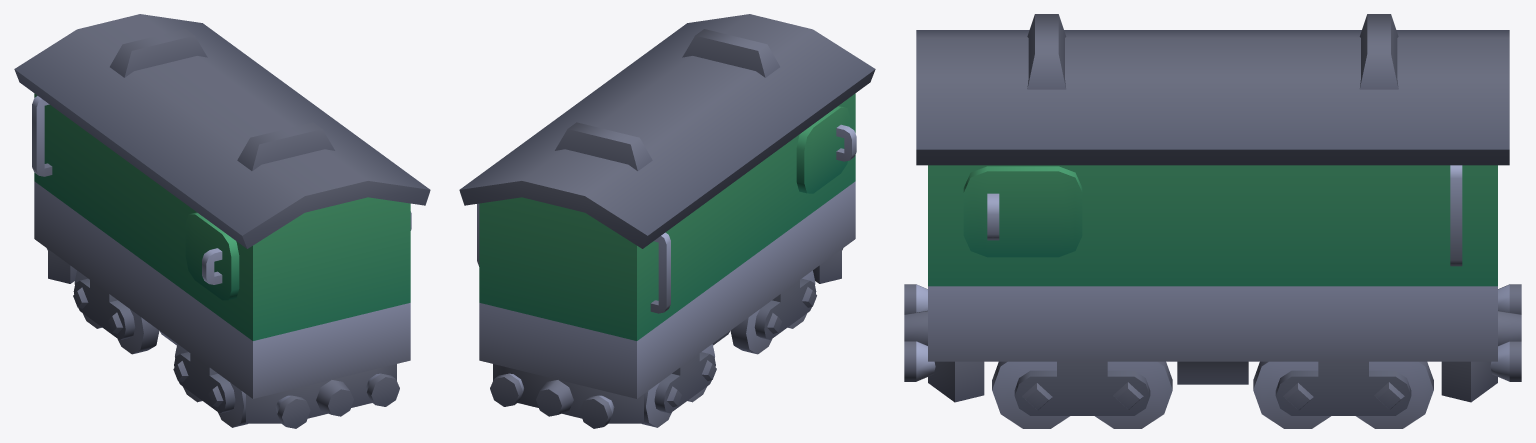
The model's file is train-diesel-box-b.glb.
The picture shows the model from 3 angles, left to right: view 1: azimuth 30°, elevation 25°; view 2: azimuth 150°, elevation 25°; view 3: azimuth 270°, elevation 25°; orthographic projection. The views are drawn at different scales.
Visible parts, largest first — view 1: train-diesel-box-b, wheels-back, wheels-front; view 2: train-diesel-box-b, wheels-front, wheels-back; view 3: train-diesel-box-b, wheels-front, wheels-back.
Part boxes in pixels (<box>): train-diesel-box-b: <box>14,14,430,428</box>; wheels-back: <box>73,270,159,354</box>; wheels-front: <box>173,344,247,427</box>; train-diesel-box-b: <box>459,14,875,428</box>; wheels-front: <box>730,270,816,354</box>; wheels-back: <box>642,344,716,427</box>; train-diesel-box-b: <box>904,14,1521,402</box>; wheels-front: <box>992,361,1172,428</box>; wheels-back: <box>1253,361,1433,428</box>.
Bounding box in the file's own units: 1.3 × 1.65 × 2.6.
